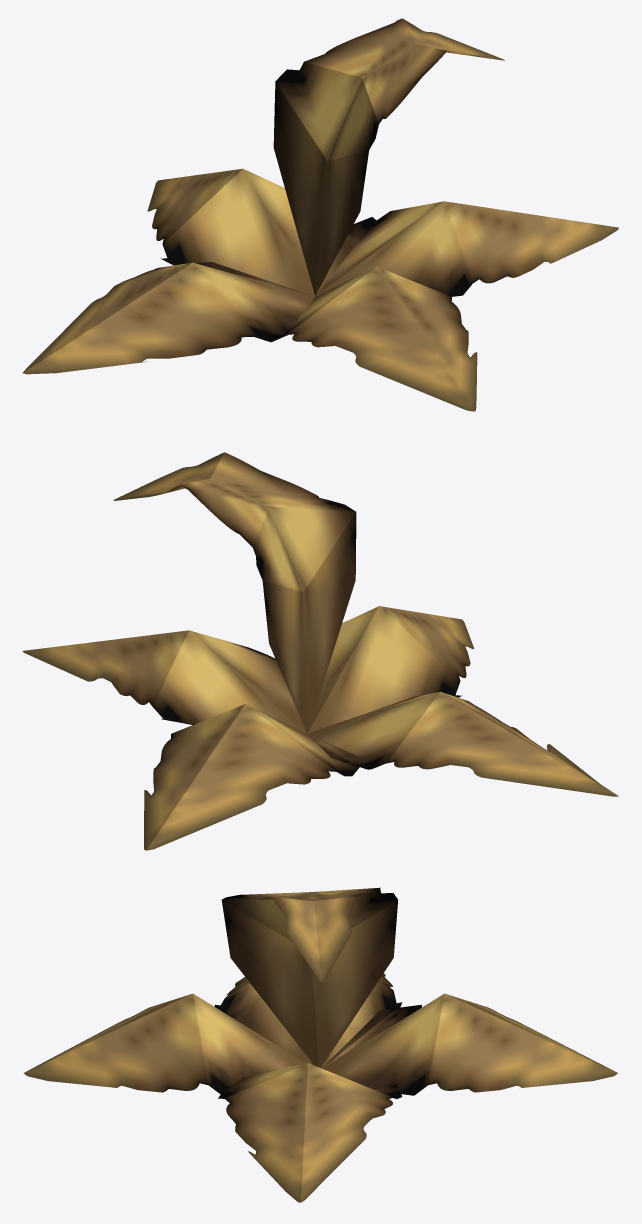
Rendered from Poly_Plant_02.obj.
3 renders of one model, top to bottom at view 1: azimuth 30°, elevation 25°; view 2: azimuth 150°, elevation 25°; view 3: azimuth 270°, elevation 25°, orthographic. The views are drawn at different scales.
Parts seen in each view (by area): view 1: Plane, Plane.001, Plane.002_Plane.007; view 2: Plane, Plane.001, Plane.002_Plane.007; view 3: Plane.001, Plane.002_Plane.007, Plane.
Part boxes in pixels (<box>): Plane: <box>23,201,618,374</box>; Plane.001: <box>147,168,477,411</box>; Plane.002_Plane.007: <box>273,18,504,296</box>; Plane: <box>23,630,618,796</box>; Plane.001: <box>144,606,474,850</box>; Plane.002_Plane.007: <box>113,452,356,733</box>; Plane.001: <box>24,993,617,1095</box>; Plane.002_Plane.007: <box>221,887,397,1067</box>; Plane: <box>218,973,402,1202</box>.
Bounding box in the file's own units: 1.51 × 0.5747 × 1.39.
Materials: 1 (1 with a texture image).
